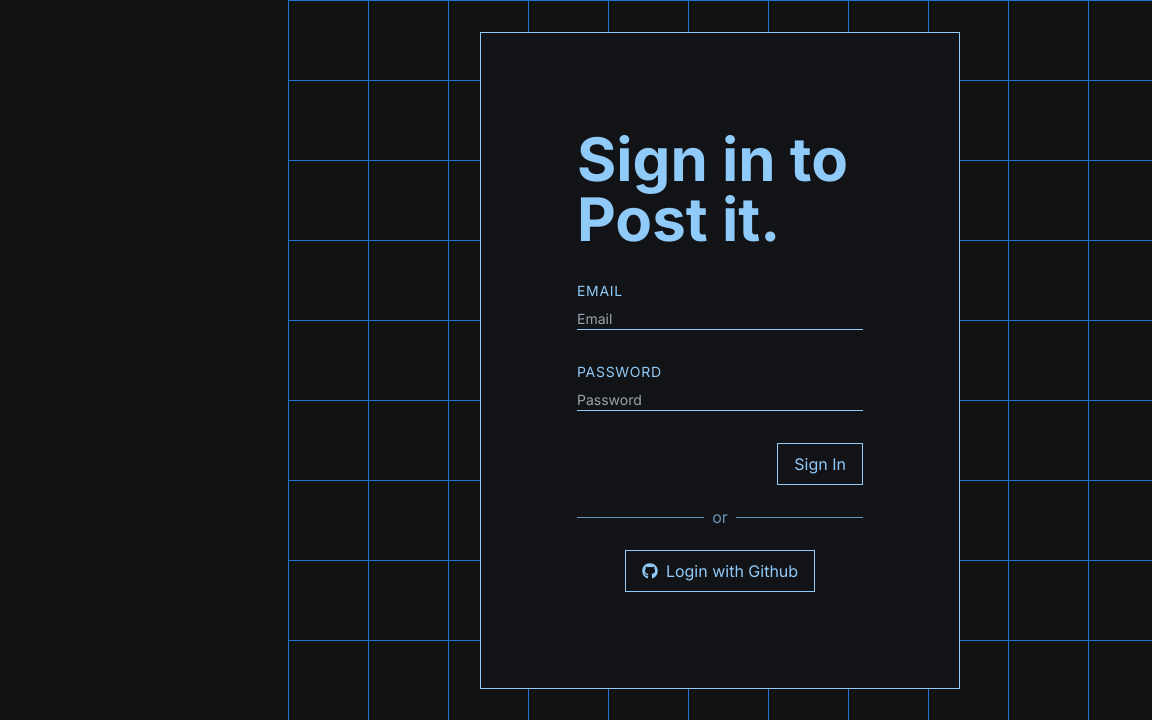
Test: Sign-In Process › should show an error message with invalid credentials
Step 1. Type "test@example.com" into the field named "email" → (720, 320), box 577,309 -> 863,330
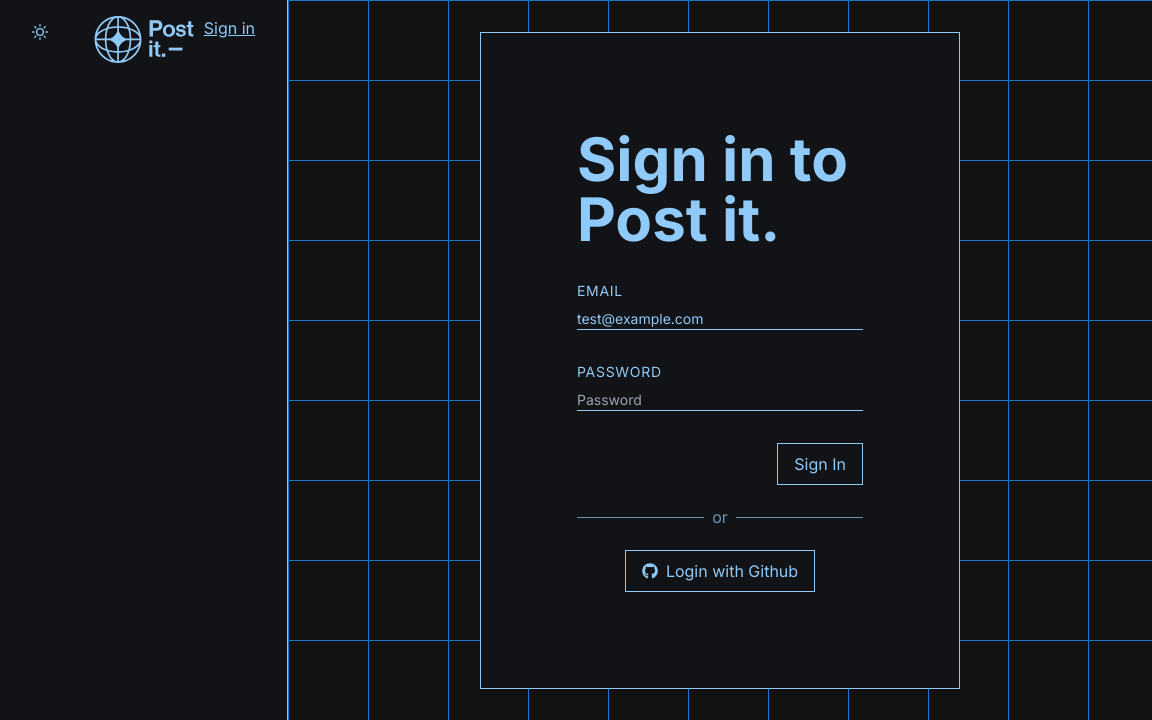
Step 2. Type "invalidpassword" into the password field named "password" → (720, 401), box 577,390 -> 863,411
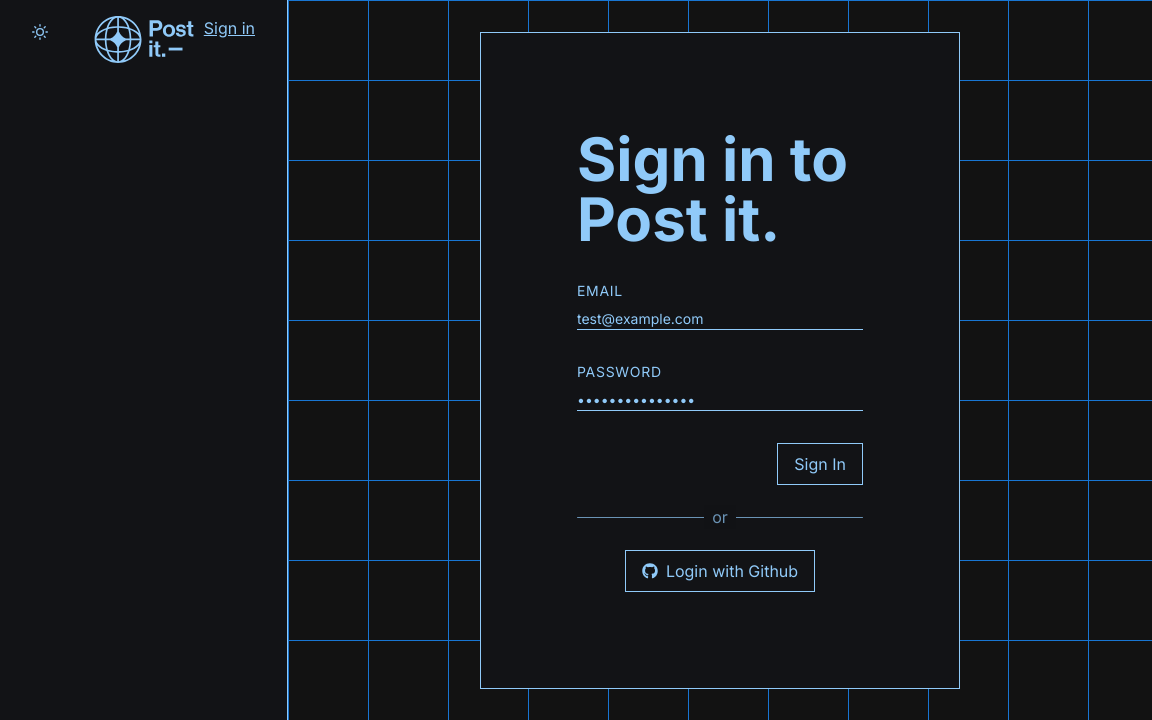
Step 3. Click the submit button → (820, 464), box 777,443 -> 863,485
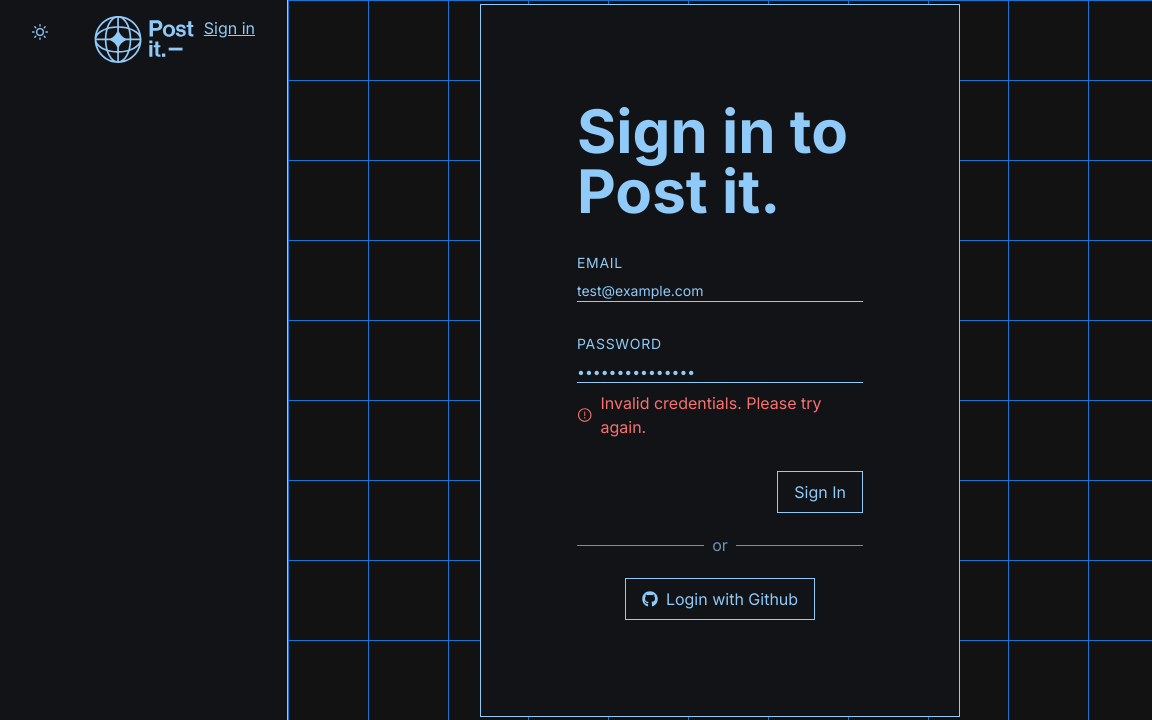
Expected: the text "Invalid credentials. Please try again." is shown, 600,392 -> 822,436
